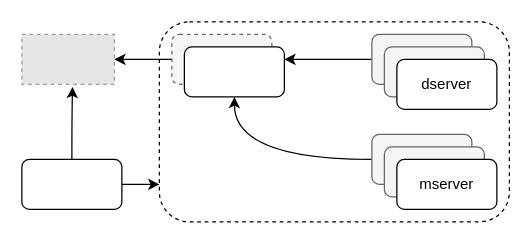
The diagram is 531 pixels wide and 244 high, and some of its shapes have lost their labels. Grey dashed boxes stand in for pictures. The centre of each missing label's shape, as x and y in pixels:
"client" goes at point 71,183.
"rserver" goes at point 233,71.
